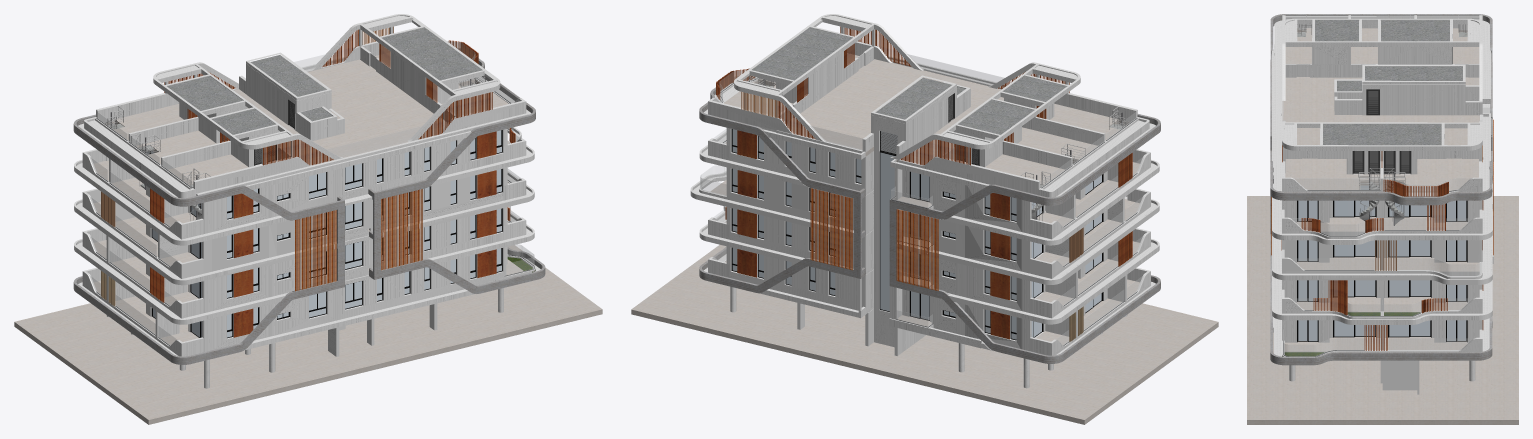
File: Type-F-compressed-transformed.glb
3 views of the same model, side by side, from view 1: azimuth 30°, elevation 25°; view 2: azimuth 150°, elevation 25°; view 3: azimuth 270°, elevation 25° (orthographic).
Parts seen in each view (by area): view 1: RooFloor, Ground Floor-1, BetonFrame 3rd-01, CRE - 038, Object_14525, Glass_RAILING, Shade Wood 01, BAR - Wood, WoodRecm002, Frame Wim, Post-G; view 2: RooFloor, Ground Floor-1, BetonFrame 3rd-01, CRE - 038, Glass_RAILING, Object_14525, Shade Wood 01, BAR - Wood, WoodRecm002, Frame Wim, RAILING - 008, Post-G (+1 smaller); view 3: RooFloor, Ground Floor-1, CRE - 038, Glass_RAILING, Object_14525, BetonFrame 3rd-01, BAR - Wood, Frame Wim, D164_001, W351, Obj_RAILING - 008, SLA - 013 (+1 smaller).
Boxes of the visible parts, box(x1,y1,x2,y2) form: RooFloor: box(74, 14, 540, 356); Ground Floor-1: box(14, 245, 602, 424); BetonFrame 3rd-01: box(73, 47, 545, 364); CRE - 038: box(96, 76, 534, 345); Object_14525: box(167, 27, 482, 134); Glass_RAILING: box(89, 41, 534, 345); Shade Wood 01: box(295, 189, 422, 291); BAR - Wood: box(150, 29, 515, 302); WoodRecm002: box(233, 131, 496, 337); Frame Wim: box(149, 130, 502, 338); Post-G: box(106, 288, 503, 388); RooFloor: box(690, 14, 1159, 355); Ground Floor-1: box(631, 245, 1218, 424); BetonFrame 3rd-01: box(699, 76, 1160, 363); CRE - 038: box(720, 75, 1137, 345); Glass_RAILING: box(700, 54, 1144, 345); Object_14525: box(752, 27, 1066, 134); Shade Wood 01: box(810, 188, 938, 290); BAR - Wood: box(716, 26, 1132, 266); WoodRecm002: box(737, 130, 1010, 339); Frame Wim: box(731, 129, 1103, 340); RAILING - 008: box(741, 92, 777, 117); Post-G: box(730, 286, 1127, 388); RooFloor: box(1272, 15, 1493, 394); Ground Floor-1: box(1247, 196, 1518, 424); CRE - 038: box(1283, 15, 1492, 356); Glass_RAILING: box(1283, 15, 1492, 356); Object_14525: box(1315, 20, 1462, 145); BetonFrame 3rd-01: box(1270, 14, 1492, 365); BAR - Wood: box(1282, 145, 1448, 350); Frame Wim: box(1297, 186, 1467, 342); D164_001: box(1352, 47, 1452, 174); W351: box(1354, 91, 1409, 172); Obj_RAILING - 008: box(1375, 240, 1396, 270); SLA - 013: box(1282, 312, 1420, 356).
Size of the model in its own units: 39.02 by 19.44 by 20.
21 materials, 17 textured.
